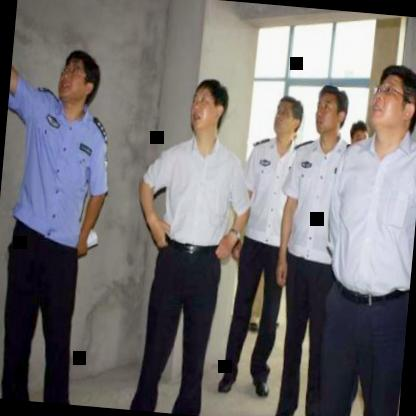head: (366, 59, 416, 145), (54, 46, 104, 117), (188, 76, 230, 140), (310, 83, 354, 142), (270, 91, 307, 141), (349, 115, 372, 157)
